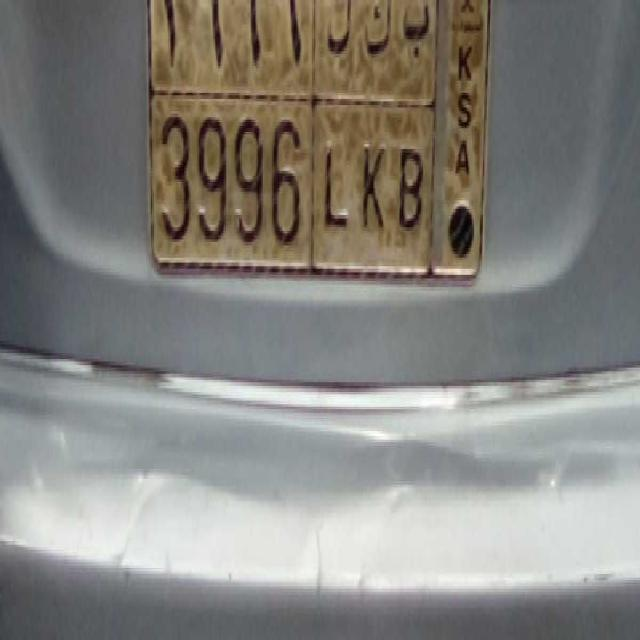license_plate: (148, 90, 438, 272)
